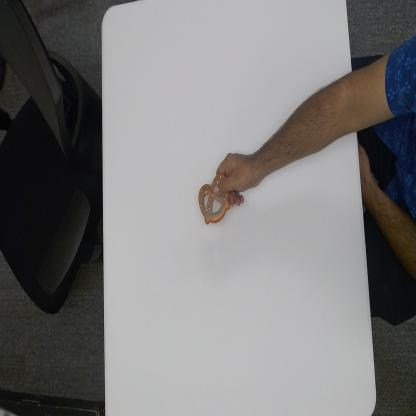Arm: (259, 65, 356, 194)
Hand: (212, 150, 258, 207)
Pretzel: (198, 172, 232, 226)
